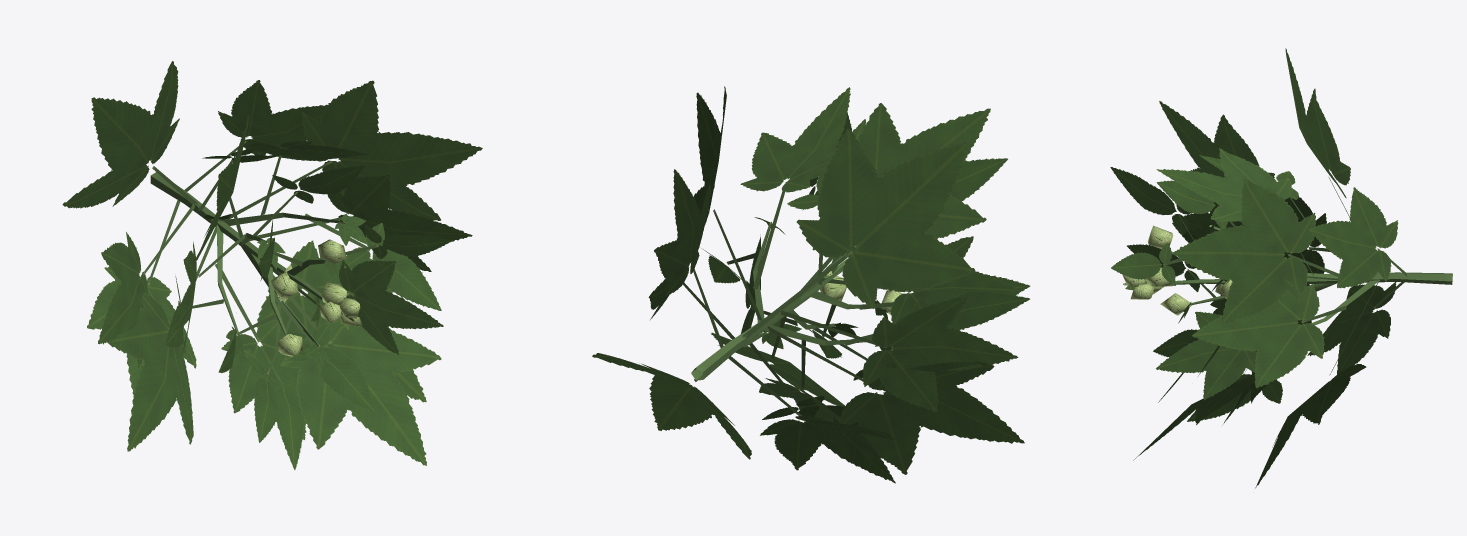
File: p_male_afghan_preflower_c0_cards.obj
3 views of the same model, side by side, from view 1: azimuth 30°, elevation 25°; view 2: azimuth 150°, elevation 25°; view 3: azimuth 270°, elevation 25° (orthographic). The views are drawn at different scales.
Size of the model in its own units: 1.25 by 1.26 by 0.951.
1 material, 1 textured.
